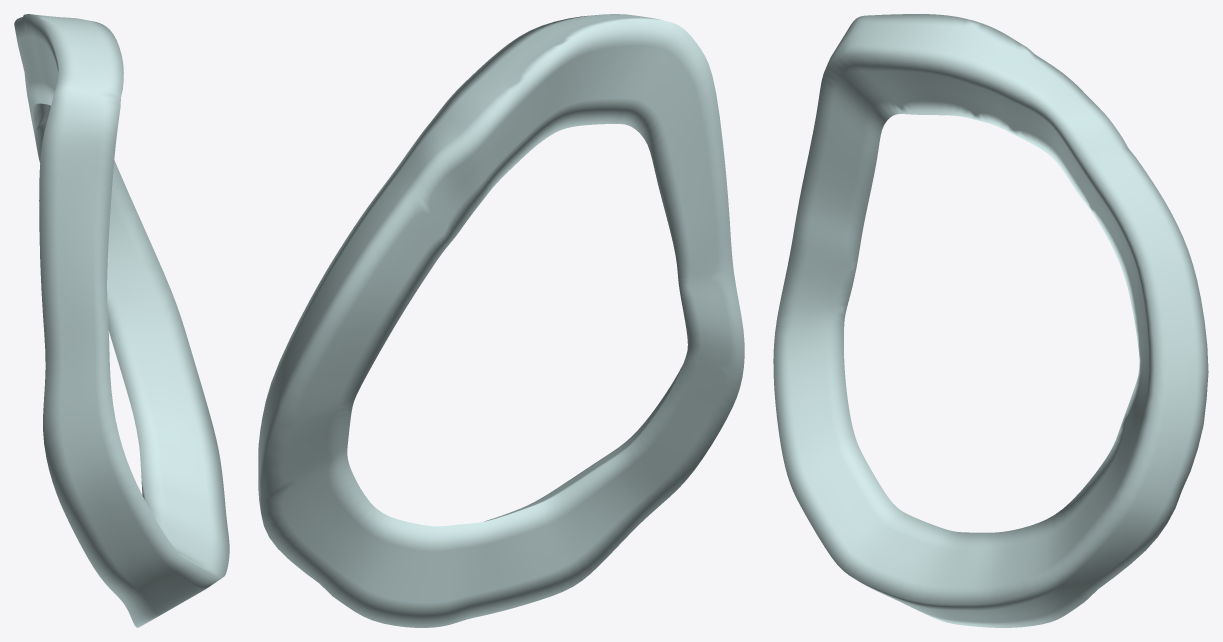
File: Glenoid_labrum.l_Generated_Mesh_From_X3D.101.glb
3 views of the same model, side by side, from view 1: azimuth 30°, elevation 25°; view 2: azimuth 150°, elevation 25°; view 3: azimuth 270°, elevation 25° (orthographic). The views are drawn at different scales.
Visible parts, largest first — view 1: Glenoid_labrum.l_Generated_Mesh_From_X3D.101; view 2: Glenoid_labrum.l_Generated_Mesh_From_X3D.101; view 3: Glenoid_labrum.l_Generated_Mesh_From_X3D.101.
Part boxes in pixels (x1,y1,x2,y2): Glenoid_labrum.l_Generated_Mesh_From_X3D.101: [14, 14, 229, 627]; Glenoid_labrum.l_Generated_Mesh_From_X3D.101: [258, 14, 744, 627]; Glenoid_labrum.l_Generated_Mesh_From_X3D.101: [773, 14, 1208, 627].
Size of the model in its own units: 0.019 by 0.0358 by 0.0253.
